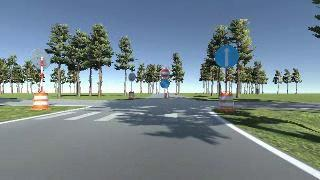go_ahead: (214, 45, 238, 68)
